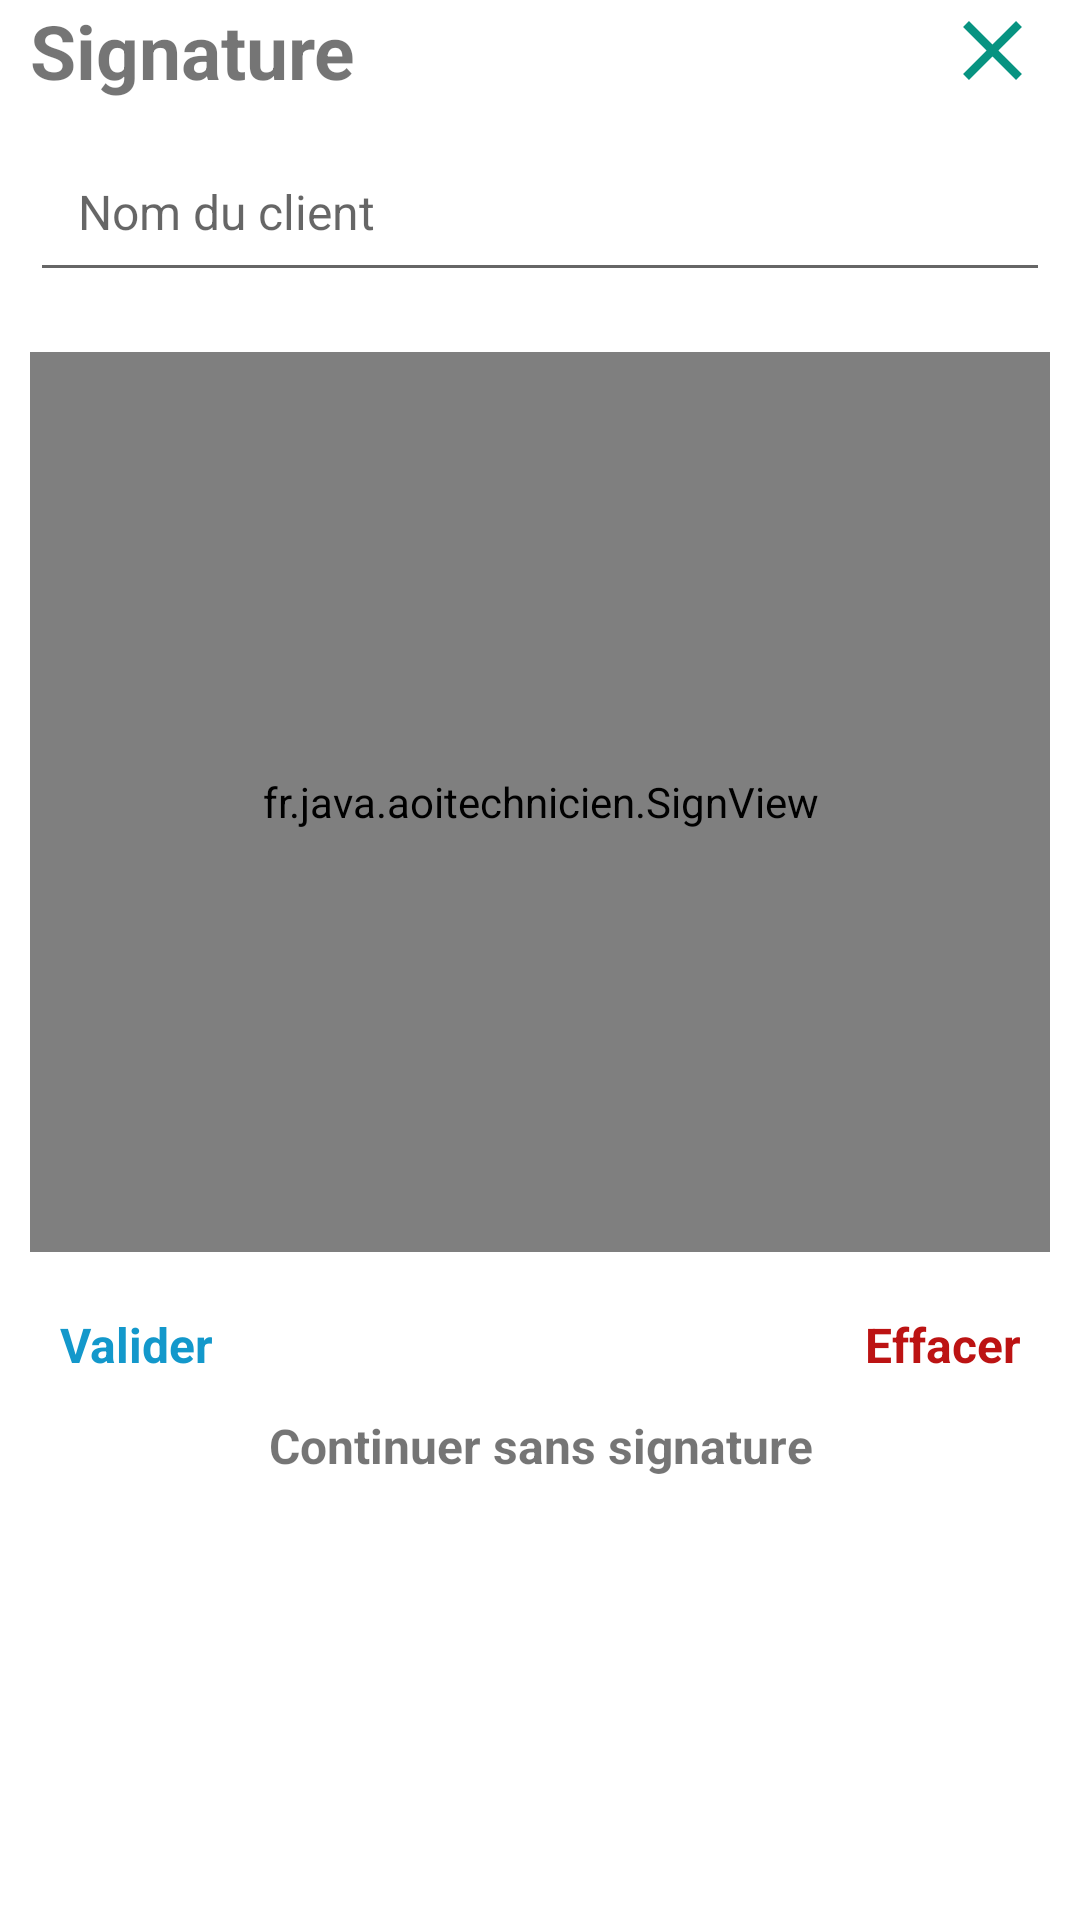

Icon bounding boxes for this 1080×1920 phone screenshot, format [x1, y1, x2, y2]:
close: [963, 21, 1022, 80]
